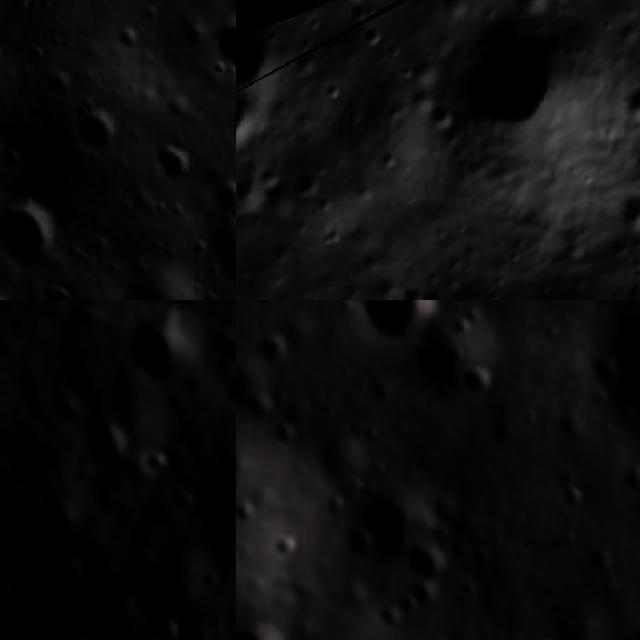crater: (424, 3, 588, 168), (0, 193, 82, 277), (236, 4, 296, 106), (126, 308, 199, 385), (64, 102, 128, 161), (352, 300, 444, 338), (150, 132, 202, 197), (236, 72, 269, 163), (280, 158, 332, 210), (84, 418, 136, 467), (606, 66, 640, 137), (603, 183, 640, 244), (206, 11, 236, 80), (42, 495, 84, 537), (352, 13, 392, 53), (407, 546, 450, 578), (36, 277, 92, 300), (340, 0, 380, 31), (39, 560, 70, 594), (0, 121, 17, 182), (143, 444, 171, 481), (387, 277, 432, 300), (582, 546, 618, 573), (169, 485, 200, 516), (375, 600, 409, 628), (260, 332, 289, 361), (217, 371, 236, 414), (149, 619, 186, 640), (560, 483, 586, 512), (134, 592, 158, 623), (466, 366, 495, 390), (236, 498, 263, 523), (276, 534, 299, 562), (333, 0, 370, 10), (631, 465, 640, 494)
